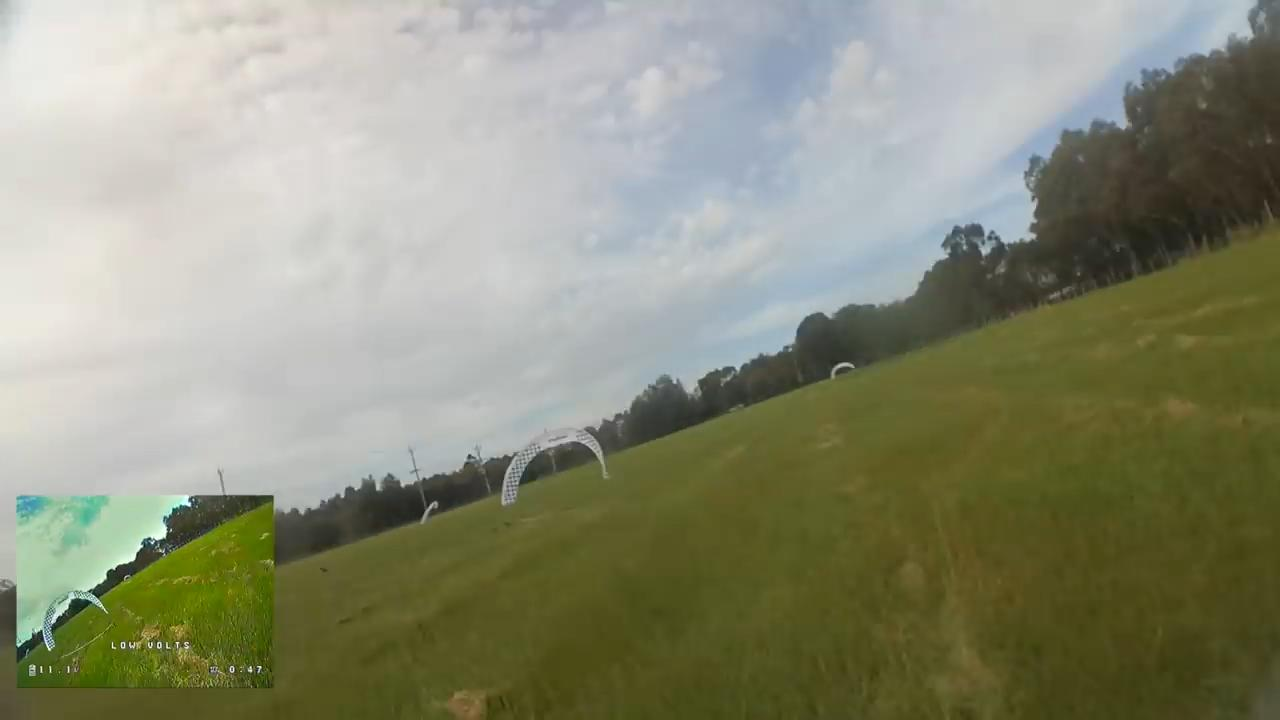gate: (499, 430, 611, 508)
